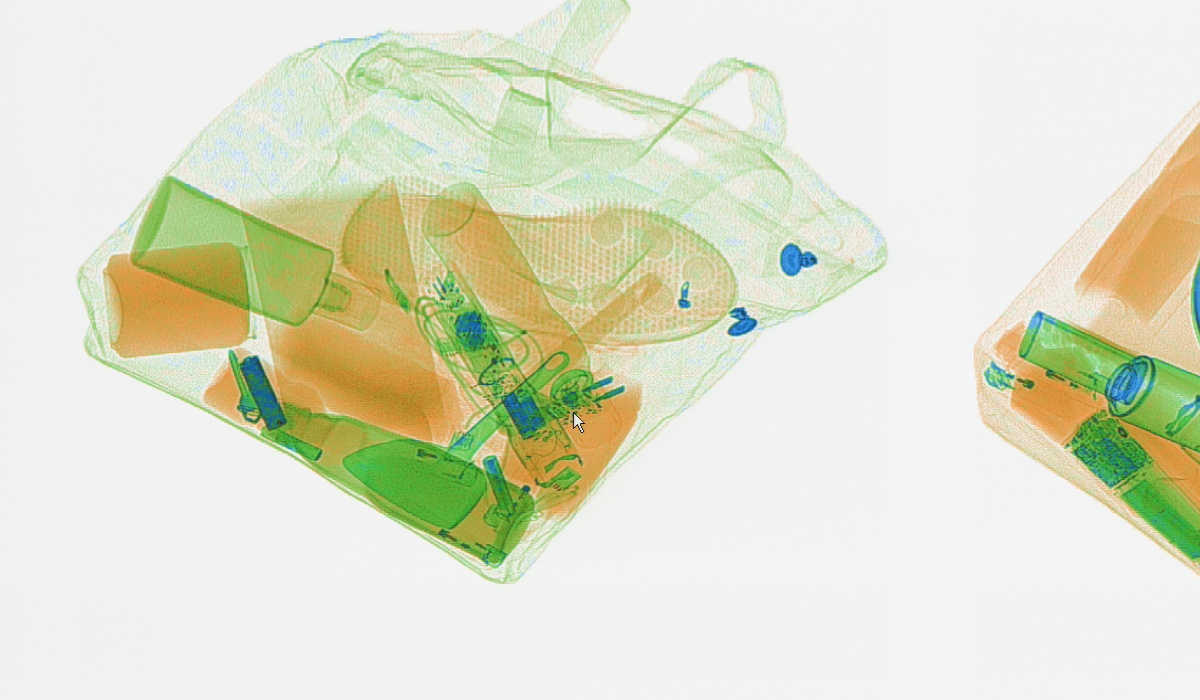lighter: (389, 497, 507, 572), (983, 356, 1096, 421), (359, 430, 481, 490), (482, 446, 553, 529)
pressure: (419, 179, 623, 450), (1102, 353, 1199, 451)
